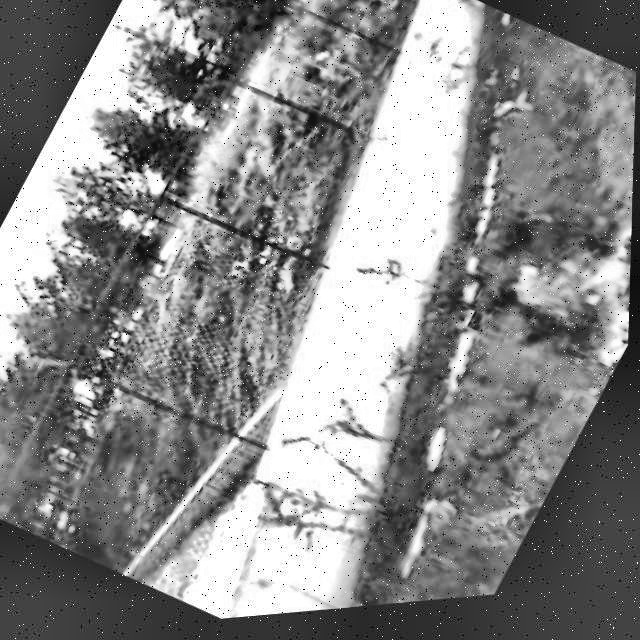Fire: (500, 194, 634, 374)
